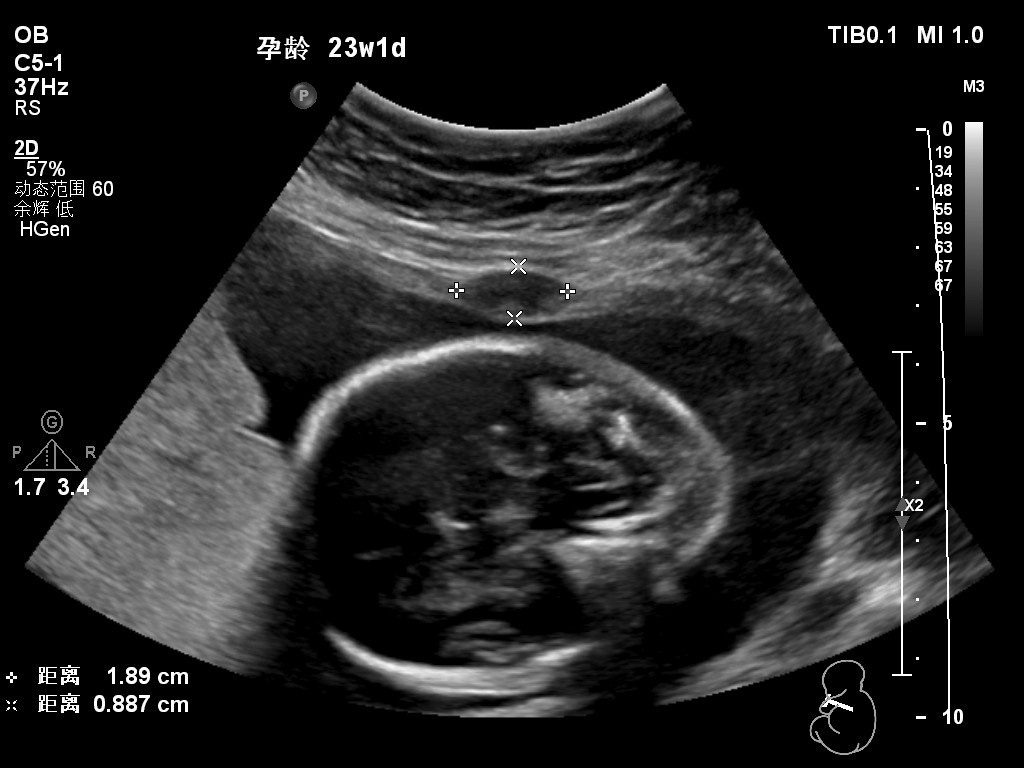肌瘤: (456, 271, 565, 316)
